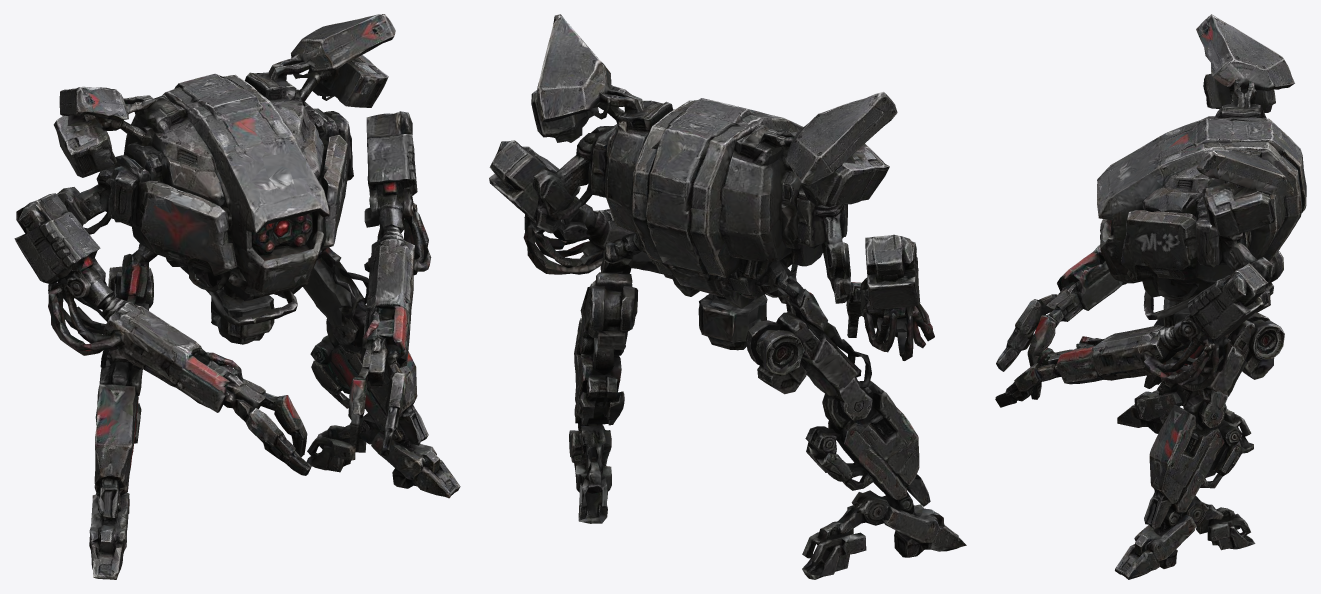
File: enemy.glb
3 views of the same model, side by side, from view 1: azimuth 30°, elevation 25°; view 2: azimuth 150°, elevation 25°; view 3: azimuth 270°, elevation 25° (orthographic). The views are drawn at different scales.
Visible parts, largest first — view 1: geometry_0; view 2: geometry_0; view 3: geometry_0.
Part boxes in pixels (x1,y1,x2,y2): geometry_0: (14,14,460,579); geometry_0: (489,14,966,579); geometry_0: (995,14,1306,579).
Bounding box in the file's own units: 0.9041 × 0.9825 × 0.6645.
Materials: 1 (1 with a texture image).
